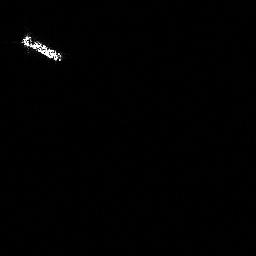ship: (19, 32, 65, 64)
